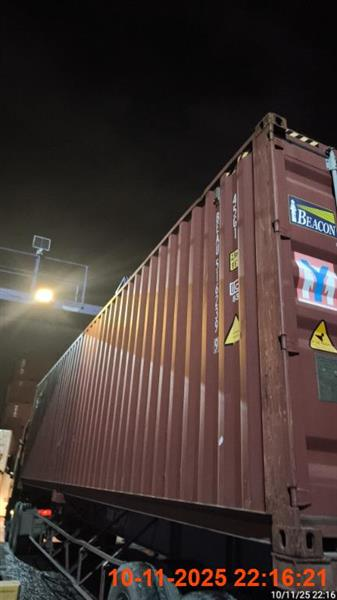broken: (3, 114, 335, 598), (4, 114, 335, 599)
